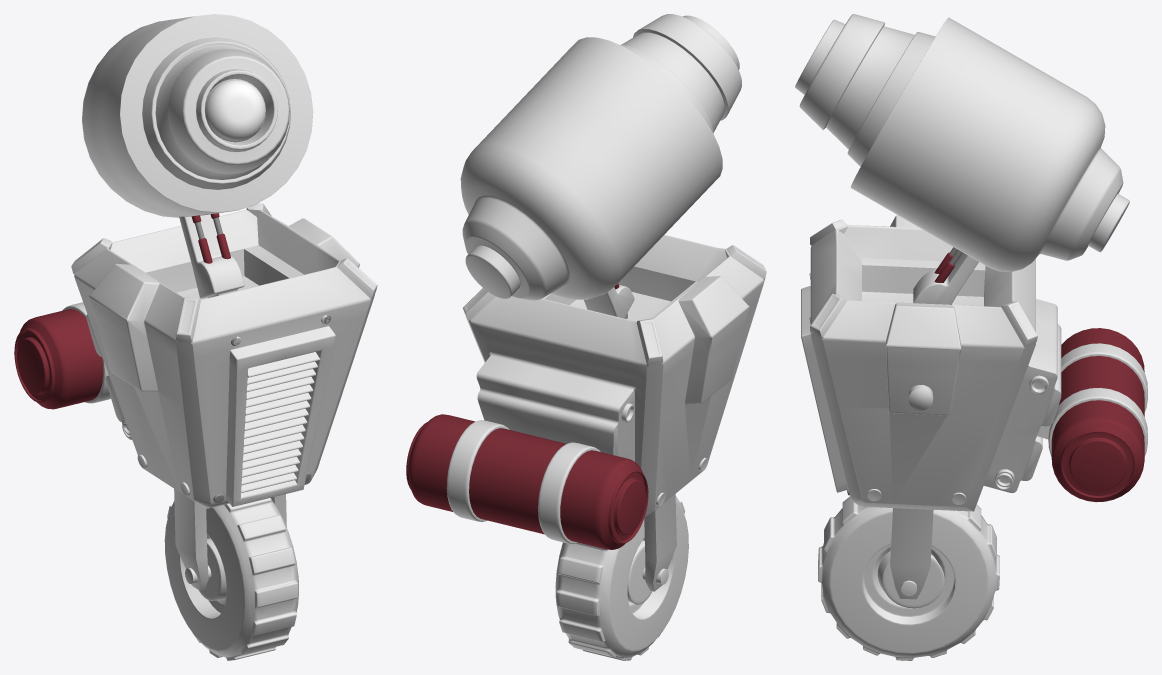
File: Wheel Robot v6.fbx
3 views of the same model, side by side, from view 1: azimuth 30°, elevation 25°; view 2: azimuth 150°, elevation 25°; view 3: azimuth 270°, elevation 25° (orthographic).
Parts seen in each view (by area): view 1: Body, Head, Tire, Ventilations, Gas tAnk, Neck; view 2: Head, Body, Gas tAnk, Tire, Neck; view 3: Body, Head, Tire, Gas tAnk, Neck, Hand_Axel.
Part boxes in pixels (box(x1,y1,x2,y2)): Body: box(71, 203, 377, 590); Head: box(82, 14, 313, 217); Tire: box(164, 498, 298, 660); Ventilations: box(241, 352, 320, 492); Gas tAnk: box(14, 302, 110, 409); Neck: box(179, 213, 244, 298); Head: box(460, 14, 741, 300); Body: box(463, 235, 766, 591); Gas tAnk: box(406, 414, 648, 549); Tire: box(555, 495, 688, 660); Neck: box(584, 283, 634, 318); Body: box(801, 215, 1061, 599); Head: box(795, 14, 1129, 271); Tire: box(818, 496, 999, 660); Gas tAnk: box(1037, 328, 1147, 502); Neck: box(913, 247, 978, 304); Hand_Axel: box(908, 385, 933, 410).
Bounding box in the file's own units: 54.89 × 141 × 72.71.
